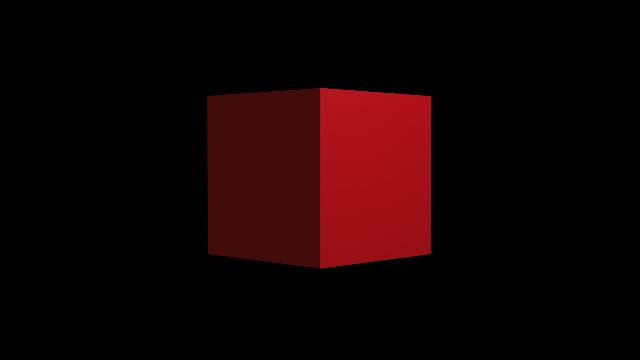Cube: (201, 81, 441, 278)
